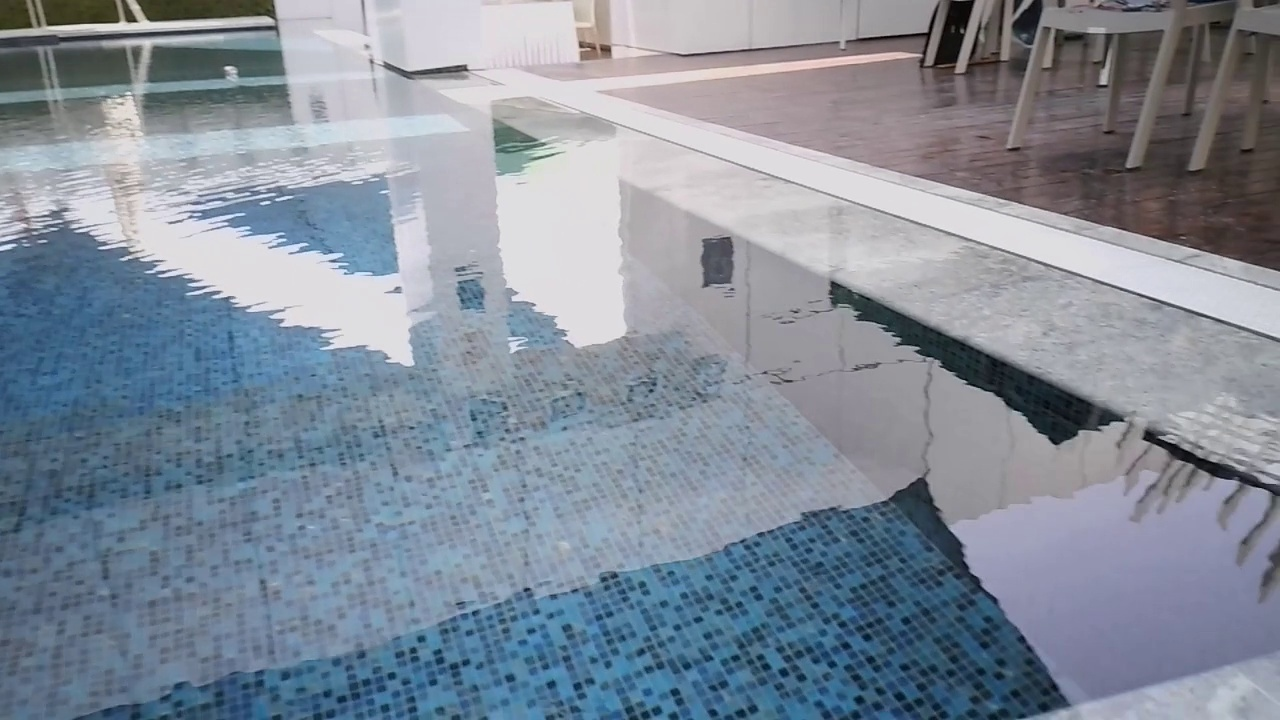debris: (221, 62, 240, 78)
